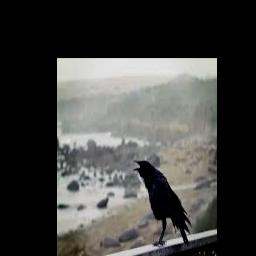Crow: (133, 158, 192, 248)
